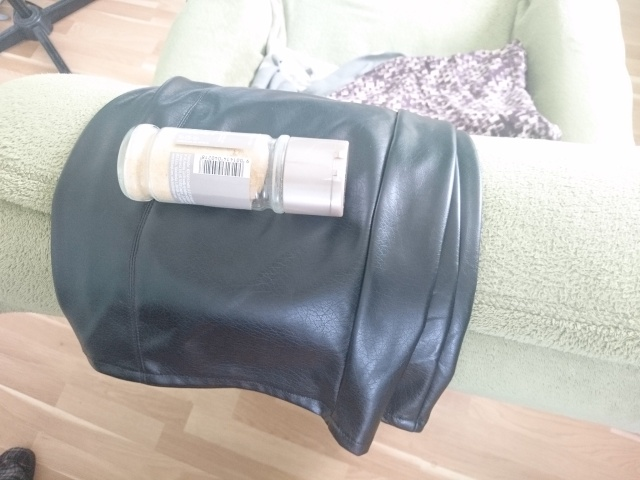Kotanyi Garlic Granules 70g: (113, 121, 353, 220)
